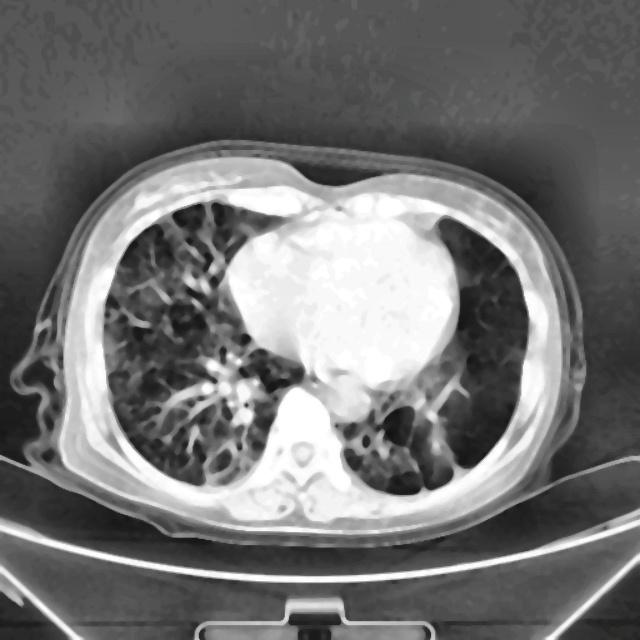covid: (10, 139, 588, 547)
